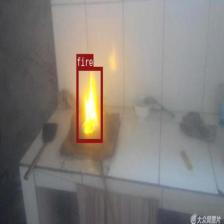fire: (76, 66, 102, 142)
